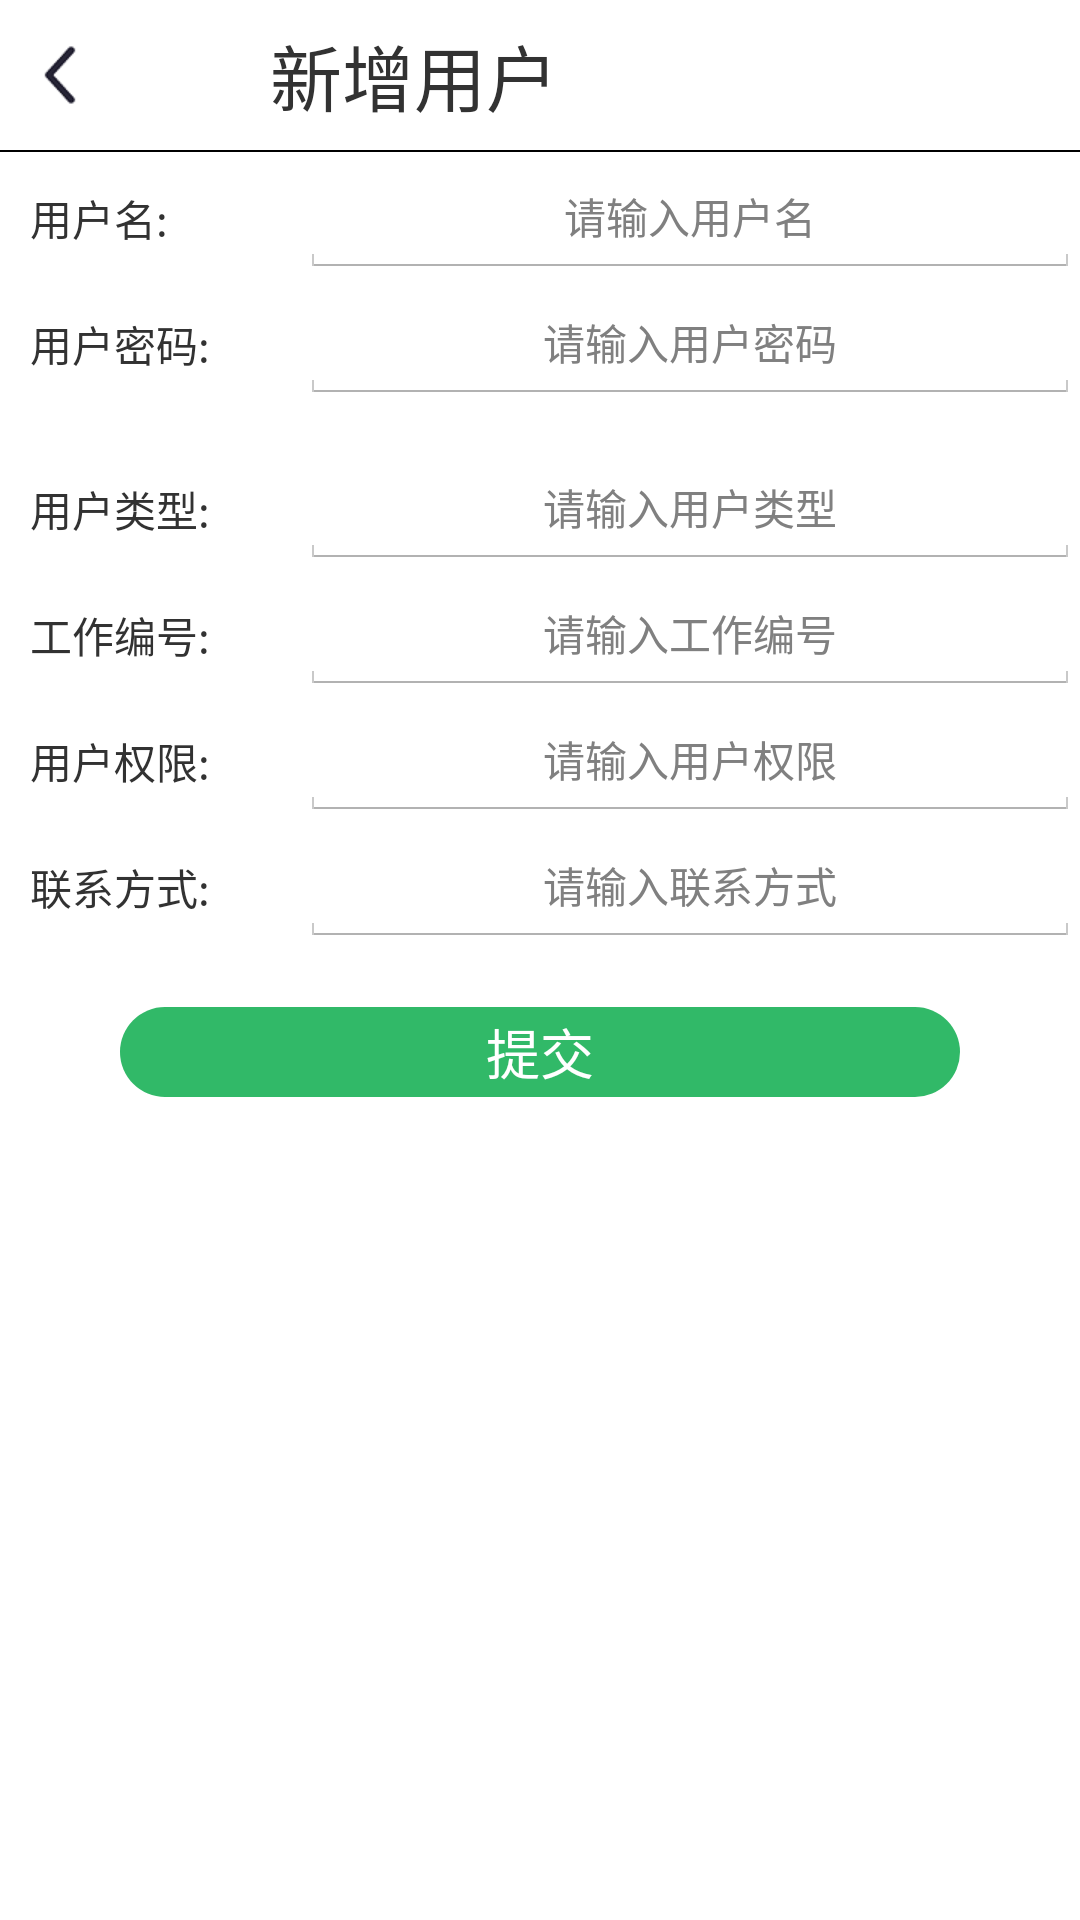

Icon bounding boxes for this 1080×1920 phone screenshot, format (x1, y1, x2, y2):
arrow back: (44, 46, 76, 104)
